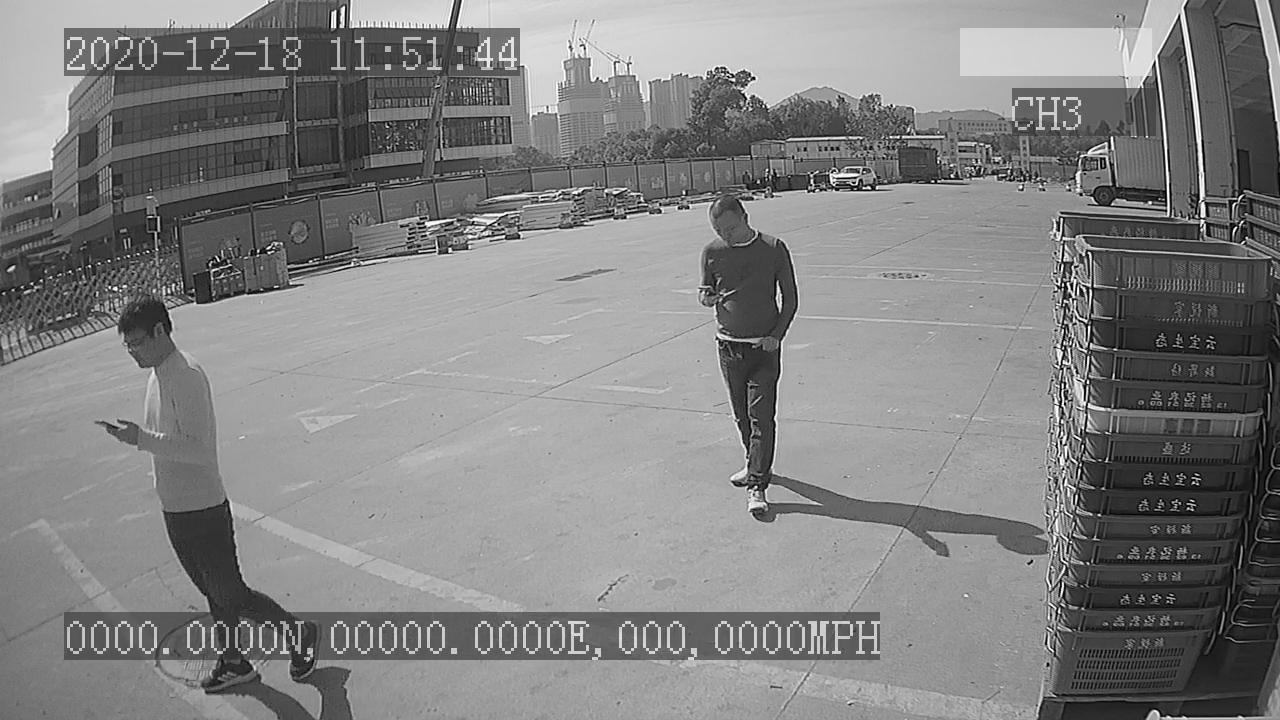person: (688, 188, 806, 527)
